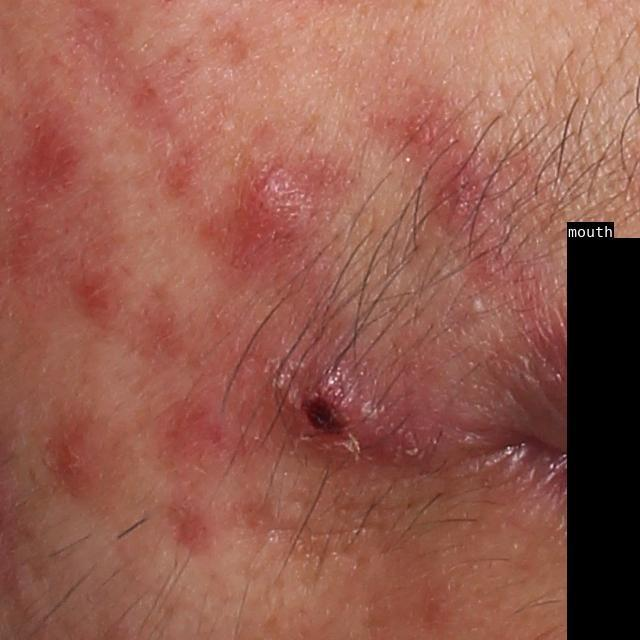atrophic_scar: (235, 481, 409, 576), (211, 29, 252, 72)
papule: (263, 342, 421, 463), (224, 153, 320, 261), (55, 413, 116, 496), (432, 154, 488, 228), (389, 99, 446, 153), (72, 272, 116, 320)
